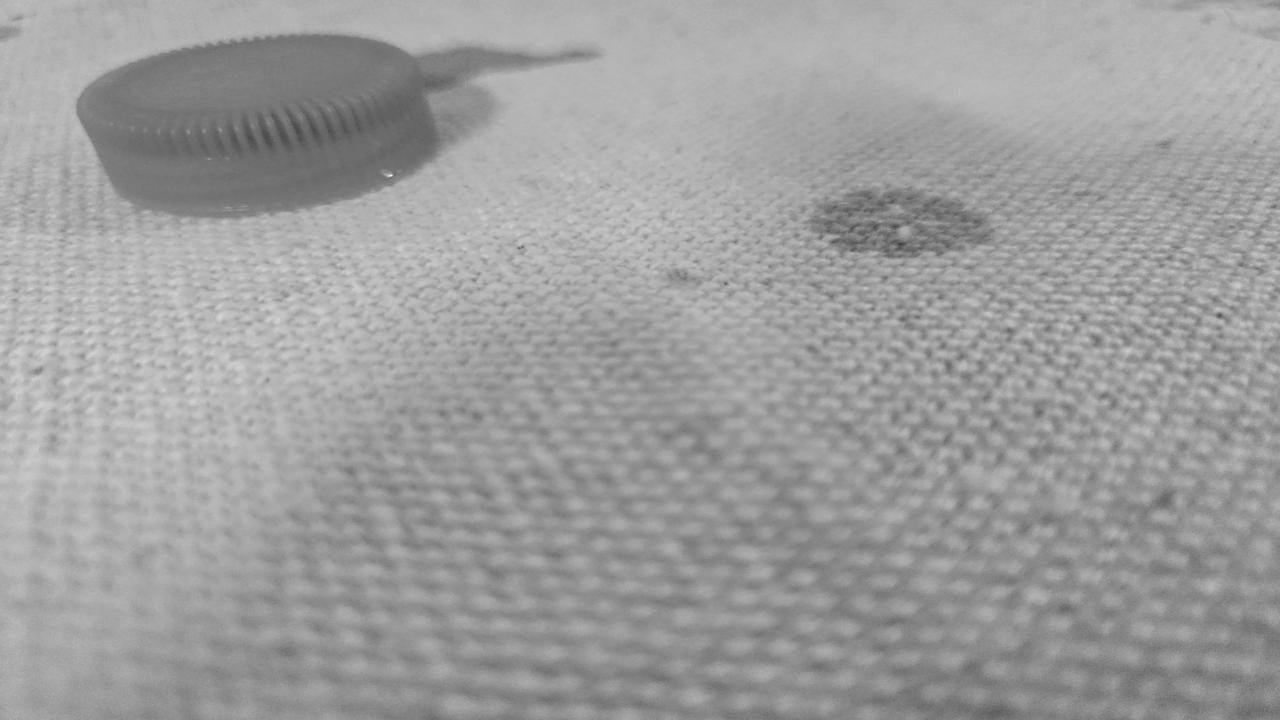bottle_cap: (80, 31, 440, 215)
